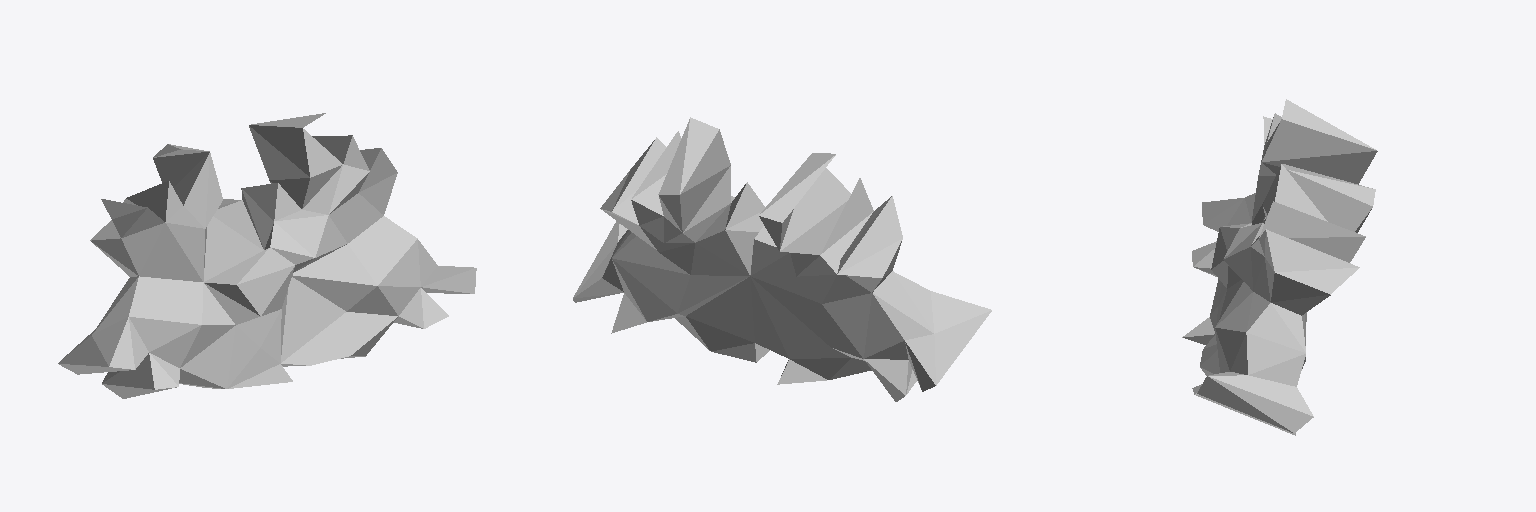
The picture shows the model from 3 angles: view 1: azimuth 30°, elevation 25°; view 2: azimuth 150°, elevation 25°; view 3: azimuth 270°, elevation 25°; orthographic projection.
Visible parts, largest first — view 1: ai_model; view 2: ai_model; view 3: ai_model.
Boxes of the visible parts, box(x1,y1,x2,y2) form: ai_model: box(58, 113, 476, 398); ai_model: box(573, 117, 991, 401); ai_model: box(1182, 99, 1377, 435).
Size of the model in its own units: 0.7323 by 0.4624 by 0.3346.